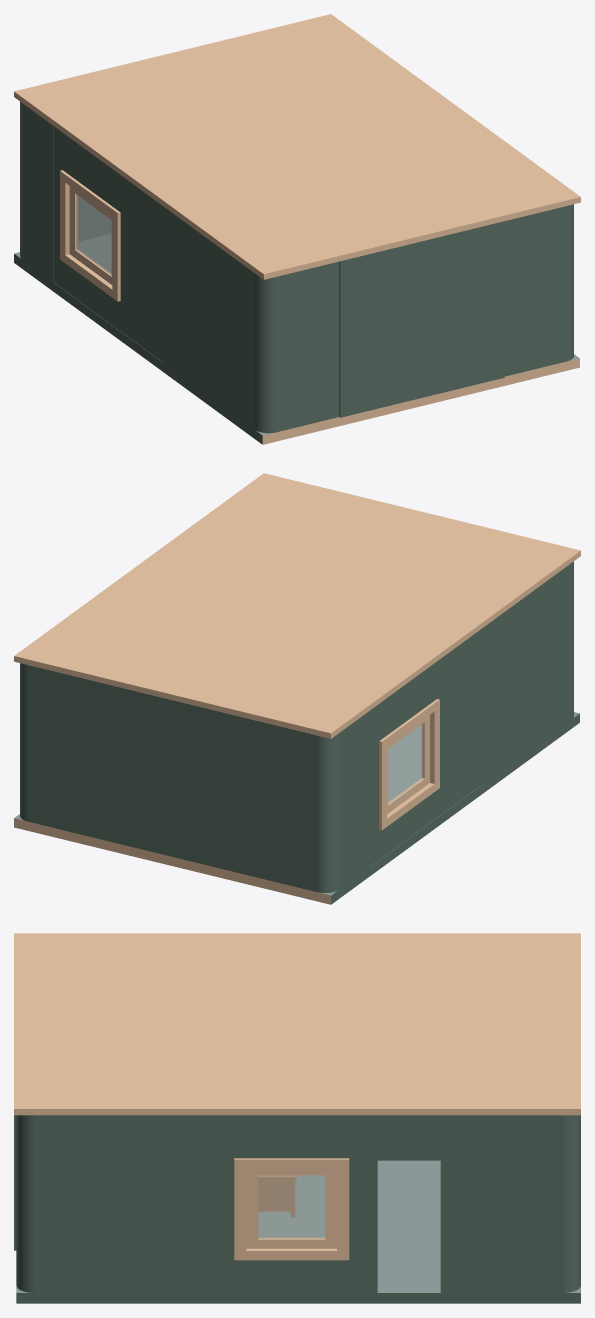
File: untitledGOO2.glb
3 views of the same model, one above another, from view 1: azimuth 30°, elevation 25°; view 2: azimuth 150°, elevation 25°; view 3: azimuth 270°, elevation 25° (orthographic). The views are drawn at different scales.
Parts seen in each view (by area): view 1: floorFull(Clone), wallCornerRond(Clone), wall(Clone).001, wallWindow(Clone).001, wallCornerRond(Clone).005, wallCornerRond(Clone).002, Floor.002, window.001; view 2: floorFull(Clone), wallCornerRond(Clone).002, wallCornerRond(Clone), wallWindow(Clone).001, wallCornerRond(Clone).007, Floor.002, window.001; view 3: floorFull(Clone), wallWindow(Clone), wallCornerRond(Clone).005, wallCornerRond(Clone).007, Floor.002, window, wall(Clone).004, desk.
Part boxes in pixels (<box>): floorFull(Clone): <box>14,14,580,279</box>; wallCornerRond(Clone): <box>163,207,339,433</box>; wall(Clone).001: <box>339,221,504,417</box>; wallWindow(Clone).001: <box>54,126,163,362</box>; wallCornerRond(Clone).005: <box>504,204,573,376</box>; wallCornerRond(Clone).002: <box>20,101,111,282</box>; Floor.002: <box>14,234,579,444</box>; window.001: <box>69,186,112,284</box>; floorFull(Clone): <box>14,473,580,738</box>; wallCornerRond(Clone).002: <box>90,680,370,892</box>; wallCornerRond(Clone): <box>480,561,573,785</box>; wallWindow(Clone).001: <box>370,630,480,865</box>; wallCornerRond(Clone).007: <box>20,663,90,836</box>; Floor.002: <box>14,712,579,904</box>; window.001: <box>387,715,429,813</box>; floorFull(Clone): <box>14,933,580,1115</box>; wallWindow(Clone): <box>174,1115,377,1292</box>; wallCornerRond(Clone).005: <box>16,1115,173,1292</box>; wallCornerRond(Clone).007: <box>440,1115,580,1292</box>; Floor.002: <box>16,1160,580,1303</box>; window: <box>246,1168,336,1248</box>; wall(Clone).004: <box>377,1115,440,1160</box>; desk: <box>258,1175,296,1217</box>.
Bounding box in the file's own units: 11.59 × 5.89 × 15.57.
